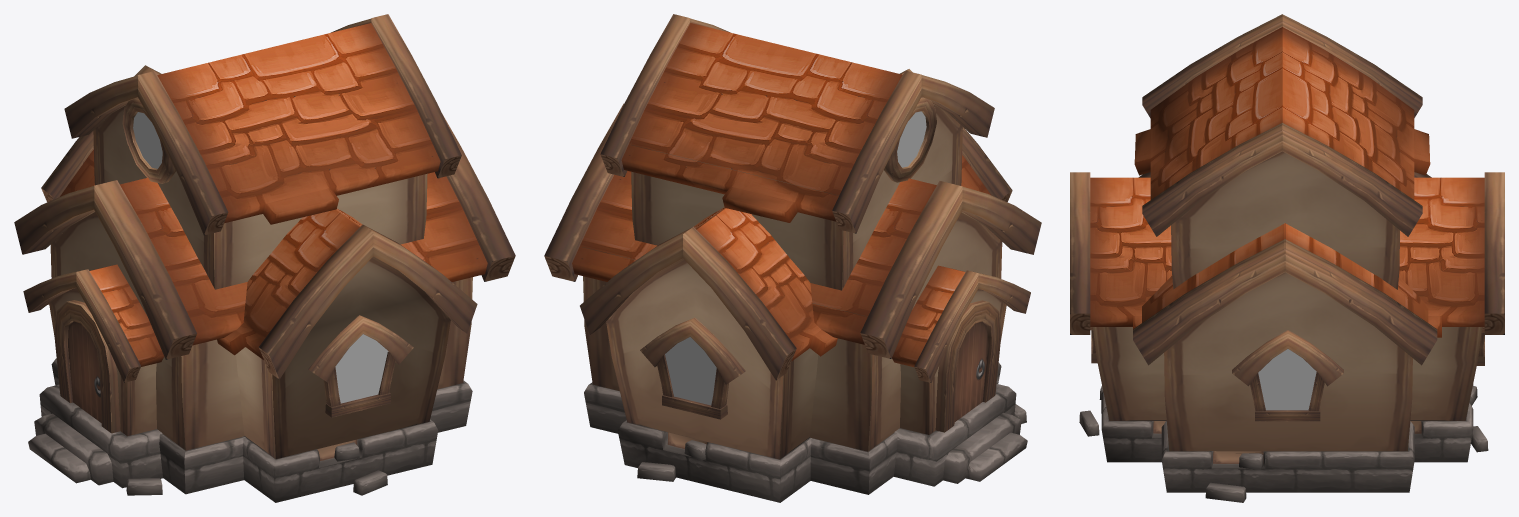
Rendered from building-5.FBX.
3 renders of one model, left to right at view 1: azimuth 30°, elevation 25°; view 2: azimuth 150°, elevation 25°; view 3: azimuth 270°, elevation 25°, orthographic. The views are drawn at different scales.
Parts seen in each view (by area): view 1: building-5, building-5 - lights on; view 2: building-5, building-5 - lights on; view 3: building-5, building-5 - lights on.
Part boxes in pixels (x1=…): building-5: x1=14, y1=14, x2=515, y2=502; building-5 - lights on: x1=133, y1=112, x2=388, y2=403; building-5: x1=544, y1=14, x2=1041, y2=502; building-5 - lights on: x1=665, y1=111, x2=926, y2=405; building-5: x1=1070, y1=14, x2=1504, y2=502; building-5 - lights on: x1=1258, y1=349, x2=1316, y2=410.
Bounding box in the file's own units: 1383 × 1278 × 1420.
